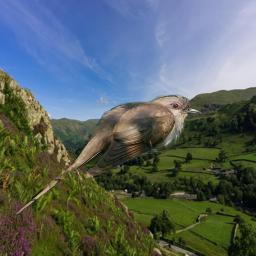Cuckoo: (15, 94, 204, 216)
